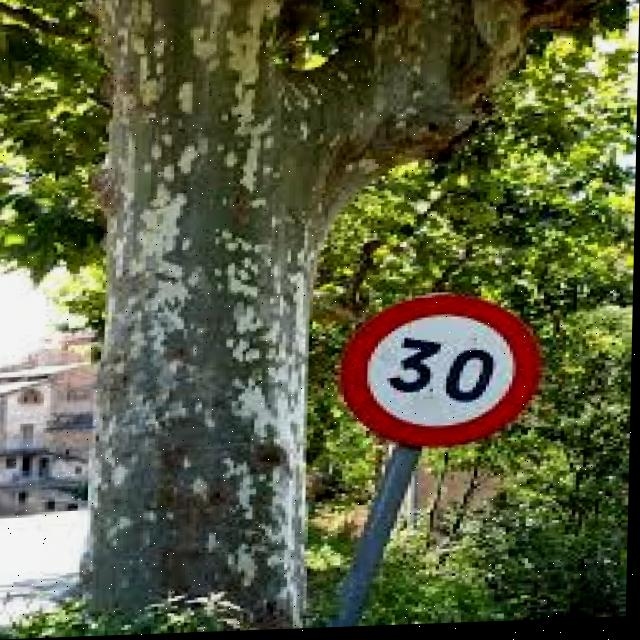Speed limit 30: (336, 289, 550, 455)
